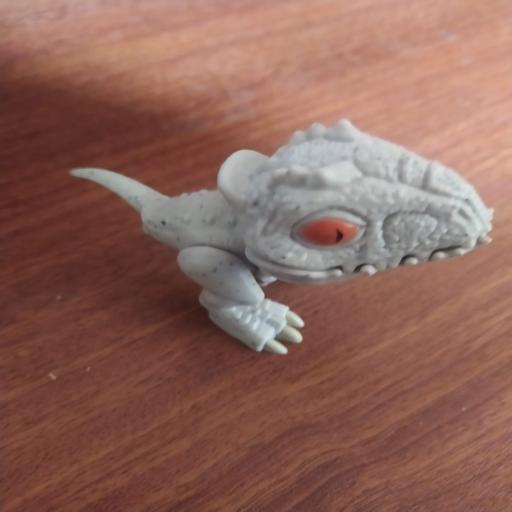Dinosaurio: (61, 111, 500, 363)
